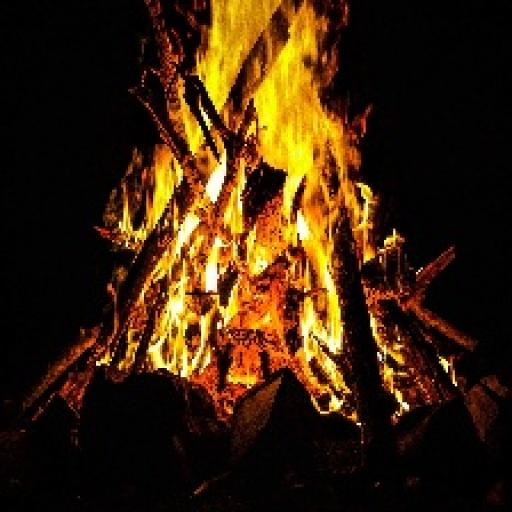fire and smoke: (87, 0, 416, 441)
